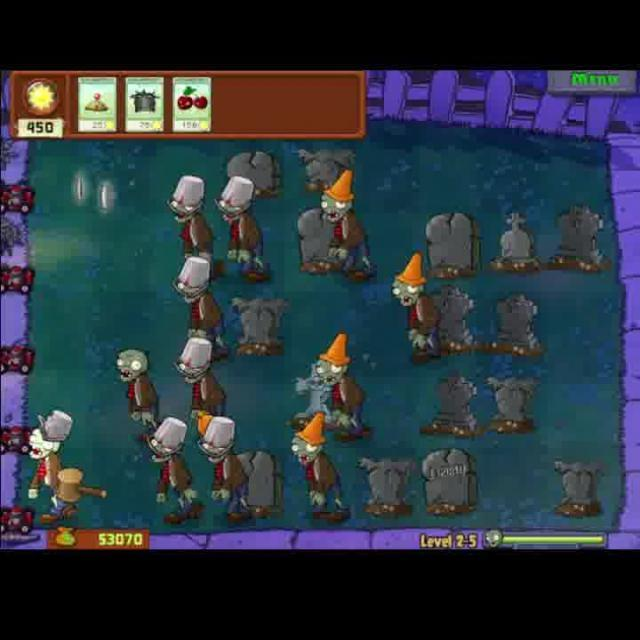coins: (68, 169, 92, 203), (98, 179, 120, 216)
zombies: (313, 166, 379, 279), (288, 406, 348, 524), (212, 172, 272, 284), (167, 172, 221, 284), (392, 254, 444, 366), (143, 416, 190, 534), (23, 416, 72, 526), (202, 410, 250, 522), (316, 337, 366, 439), (176, 336, 225, 436), (178, 254, 228, 350), (116, 344, 161, 436)
